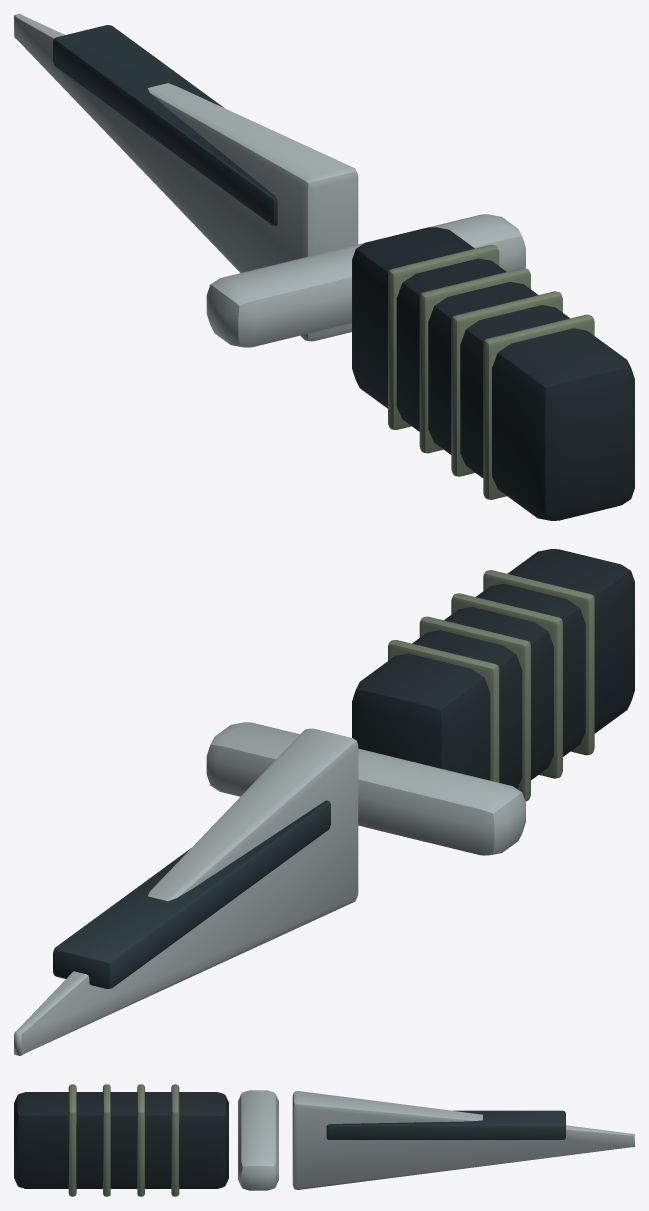
File: kf-weapon-knife.glb
3 views of the same model, one above another, from view 1: azimuth 30°, elevation 25°; view 2: azimuth 150°, elevation 25°; view 3: azimuth 270°, elevation 25° (orthographic). The views are drawn at different scales.
Parts seen in each view (by area): view 1: Weapon Grip rubber, Weapon Machined steel, Weapon Gunmetal, Weapon Painted receiver; view 2: Weapon Machined steel, Weapon Grip rubber, Weapon Gunmetal, Weapon Painted receiver; view 3: Weapon Machined steel, Weapon Grip rubber, Weapon Gunmetal, Weapon Painted receiver.
Boxes of the visible parts, x1,y1,x2,y2 form: Weapon Grip rubber: (352, 227, 634, 520); Weapon Machined steel: (14, 14, 525, 347); Weapon Gunmetal: (53, 25, 277, 225); Weapon Painted receiver: (388, 245, 594, 499); Weapon Machined steel: (14, 722, 525, 1055); Weapon Grip rubber: (352, 549, 634, 788); Weapon Gunmetal: (53, 800, 330, 988); Weapon Painted receiver: (388, 570, 594, 801); Weapon Machined steel: (238, 1090, 634, 1190); Weapon Grip rubber: (14, 1092, 228, 1188); Weapon Gunmetal: (326, 1110, 565, 1139); Weapon Painted receiver: (68, 1084, 179, 1196).
Size of the model in its own units: 0.19 by 0.1 by 0.635.
